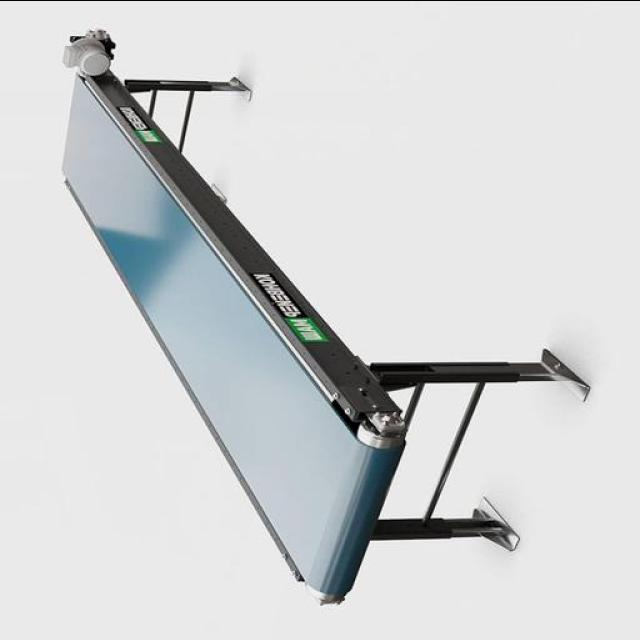conveyor: (61, 75, 403, 605)
